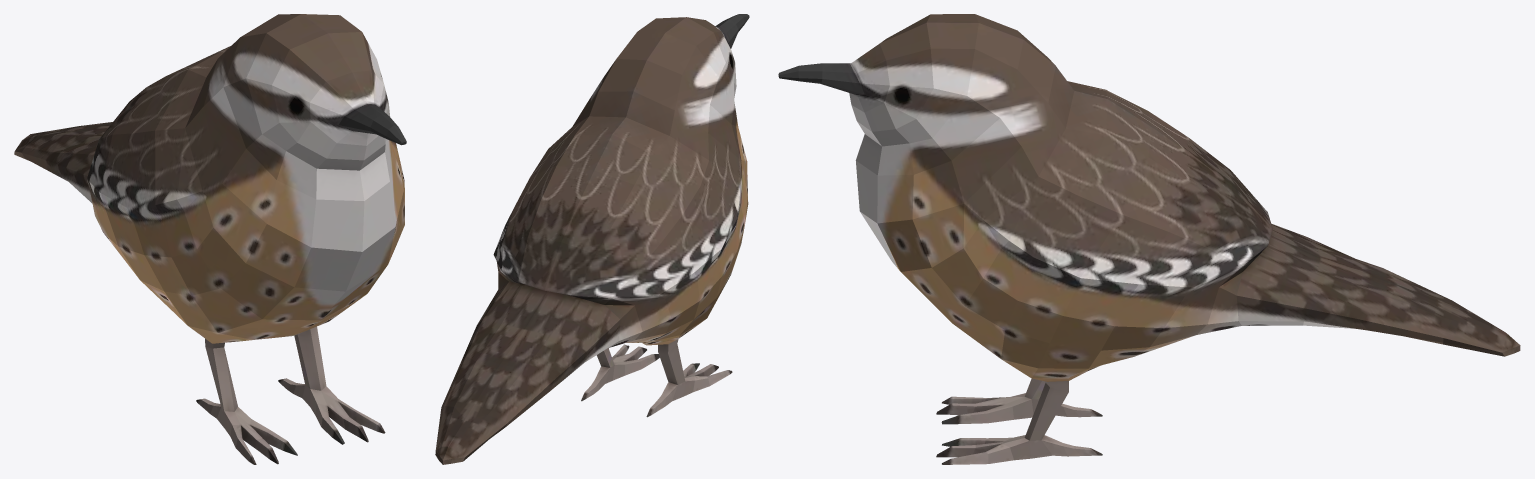
File: animals-cactus-wren-029.glb
3 renders of one model, left to right at view 1: azimuth 30°, elevation 25°; view 2: azimuth 150°, elevation 25°; view 3: azimuth 270°, elevation 25°, orthographic. The views are drawn at different scales.
Parts seen in each view (by area): view 1: CactusWren_Mesh; view 2: CactusWren_Mesh; view 3: CactusWren_Mesh.
Part boxes in pixels (<box>): CactusWren_Mesh: <box>14,14,406,464</box>; CactusWren_Mesh: <box>435,14,749,464</box>; CactusWren_Mesh: <box>778,14,1520,464</box>.
Size of the model in its own units: 0.6622 by 1.1 by 1.78.
1 material, 1 textured.
